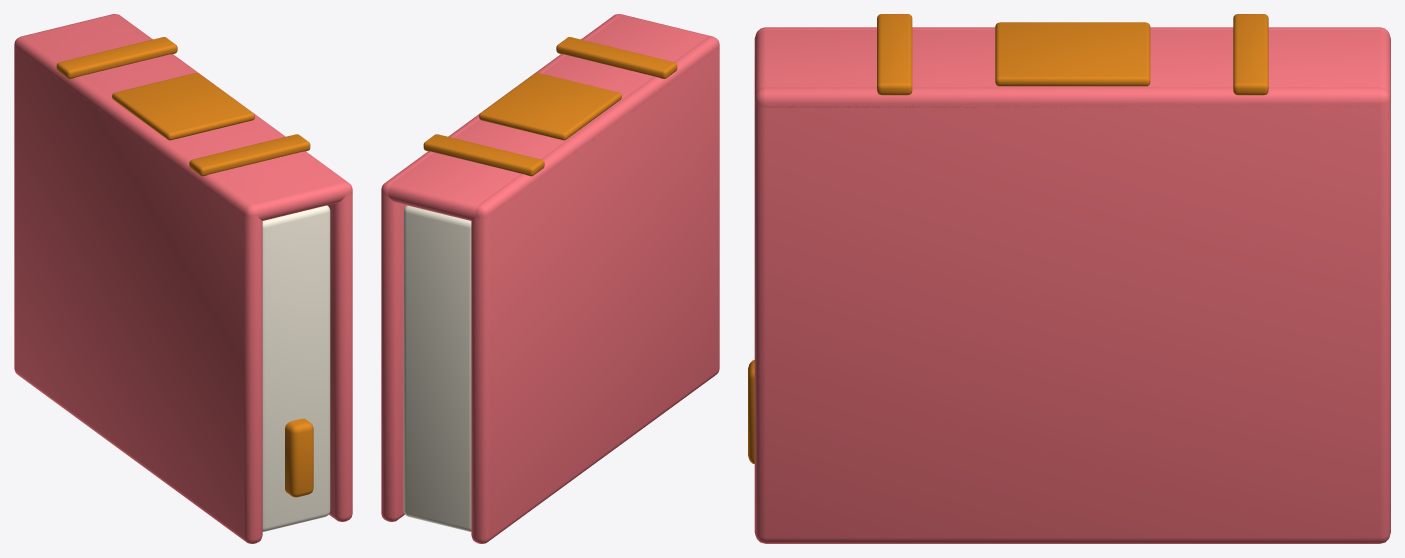
File: ColorfulBook_Premium.fbx
The picture shows the model from 3 angles, left to right: view 1: azimuth 30°, elevation 25°; view 2: azimuth 150°, elevation 25°; view 3: azimuth 270°, elevation 25°; orthographic projection. The views are drawn at different scales.
Visible parts, largest first — view 1: ColorfulBook; view 2: ColorfulBook; view 3: ColorfulBook.
Part boxes in pixels (x1,y1,x2,y2): ColorfulBook: (14, 14, 352, 543); ColorfulBook: (381, 14, 719, 543); ColorfulBook: (748, 14, 1390, 543).
Bounding box in the file's own units: 0.077 × 0.231 × 0.29.
